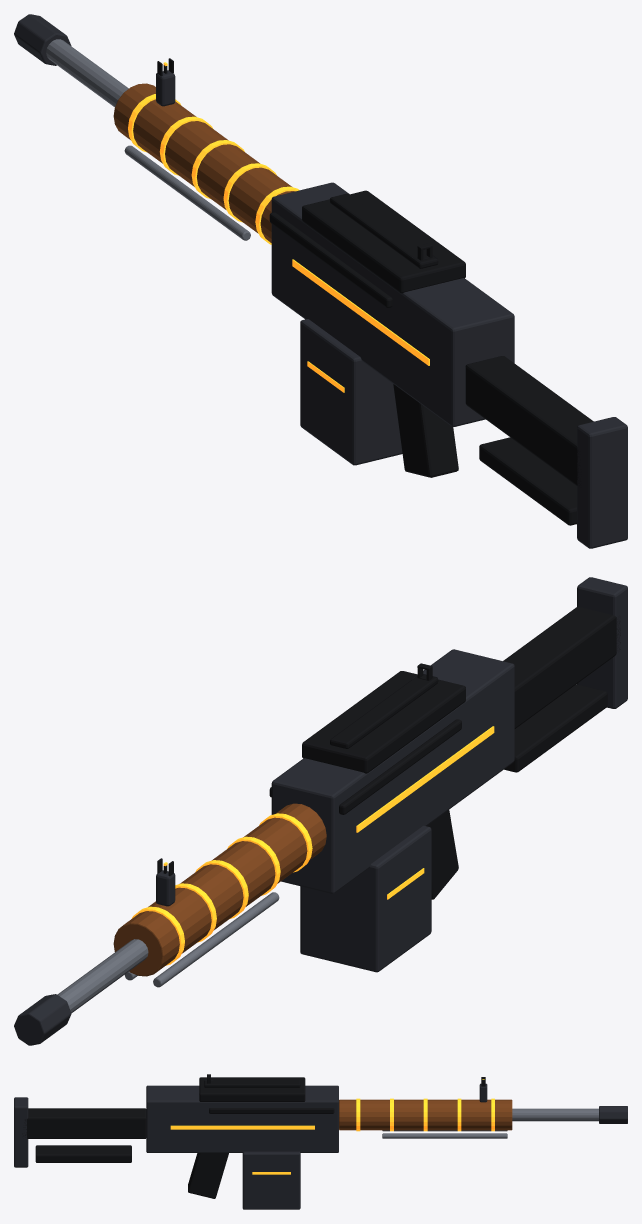
File: lmg.glb
The picture shows the model from 3 angles, top to bottom: view 1: azimuth 30°, elevation 25°; view 2: azimuth 150°, elevation 25°; view 3: azimuth 270°, elevation 25°; orthographic projection. The views are drawn at different scales.
Parts seen in each view (by area): view 1: Body, Magazine, IronSights; view 2: Body, Magazine, IronSights; view 3: Body, Magazine, IronSights.
Part boxes in pixels (x1=…): Body: x1=14, y1=14, x2=627, y2=548; Magazine: x1=300, y1=319, x2=402, y2=465; IronSights: x1=156, y1=58, x2=437, y2=260; Body: x1=14, y1=577, x2=627, y2=1045; Magazine: x1=300, y1=825, x2=431, y2=972; IronSights: x1=156, y1=663, x2=437, y2=906; Body: x1=14, y1=1077, x2=627, y2=1198; Magazine: x1=242, y1=1151, x2=300, y2=1209; IronSights: x1=205, y1=1074, x2=487, y2=1102.
Bounding box in the file's own units: 0.102 × 0.285 × 1.27.
